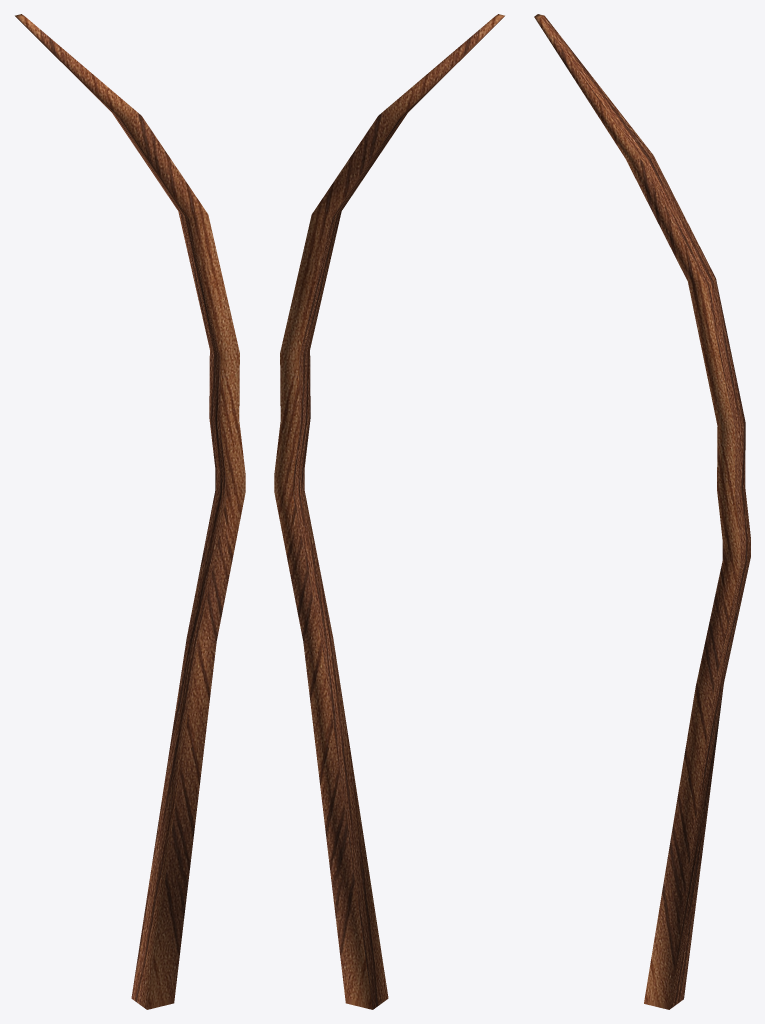
Rendered from Nyt Sword.fbx.
The picture shows the model from 3 angles, left to right: view 1: azimuth 30°, elevation 25°; view 2: azimuth 150°, elevation 25°; view 3: azimuth 330°, elevation 25°; orthographic projection. The views are drawn at different scales.
Visible parts, largest first — view 1: Cube; view 2: Cube; view 3: Cube.
Part boxes in pixels (x1,y1,x2,y2): Cube: (15, 14, 245, 1009); Cube: (274, 14, 504, 1009); Cube: (534, 14, 750, 1009).
Bounding box in the file's own units: 470 × 2044 × 57.02.
Materials: 1 (1 with a texture image).
